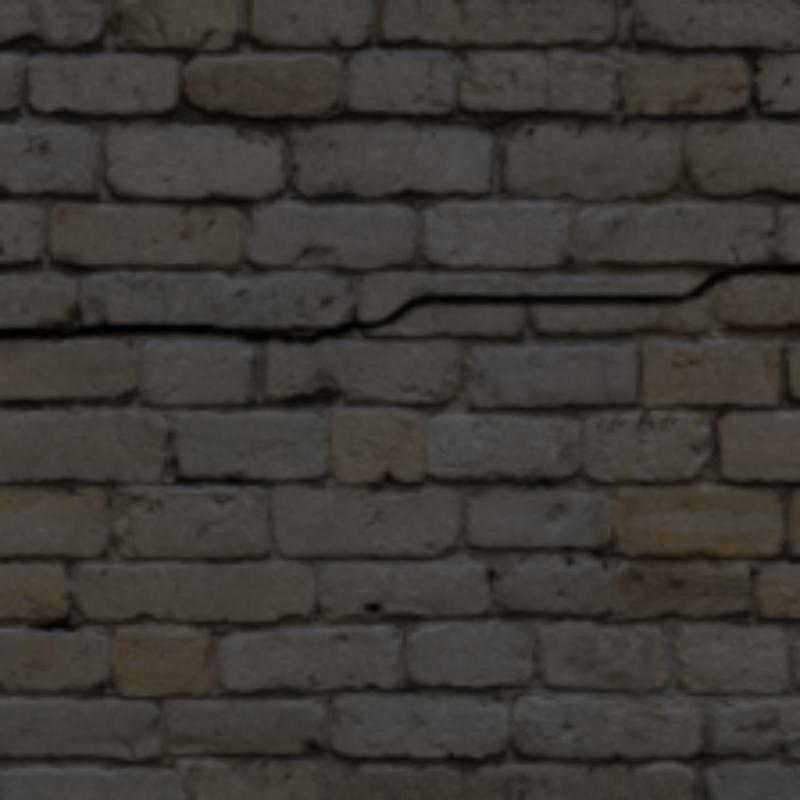pothole: (0, 264, 796, 343)
